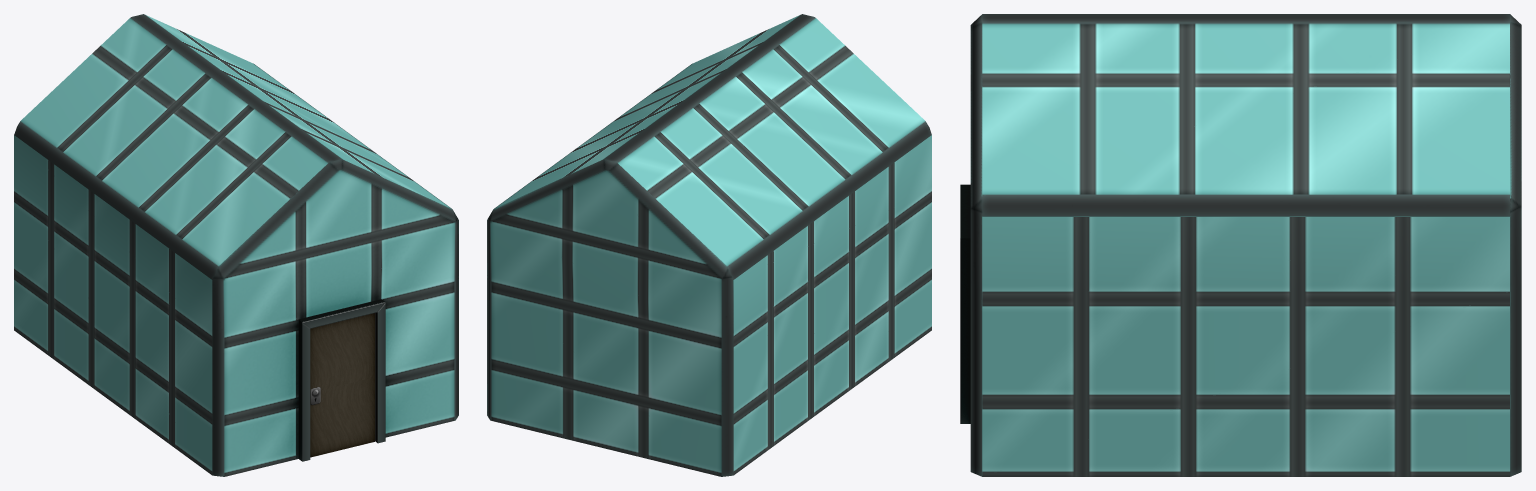
The model's file is greenhouse.fbx.
The picture shows the model from 3 angles, left to right: view 1: azimuth 30°, elevation 25°; view 2: azimuth 150°, elevation 25°; view 3: azimuth 270°, elevation 25°; orthographic projection. The views are drawn at different scales.
Visible parts, largest first — view 1: greenhouse_geo, door_geo; view 2: greenhouse_geo; view 3: greenhouse_geo.
Part boxes in pixels (x1,y1,x2,y2): greenhouse_geo: (14,14,458,476); door_geo: (310,313,375,457); greenhouse_geo: (487,14,931,476); greenhouse_geo: (960,14,1521,476).
Size of the model in its own units: 0.0339 by 0.0374 by 0.0503.
